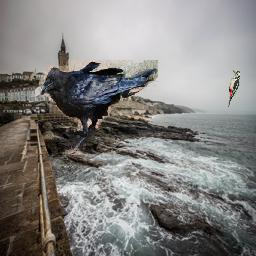Crow: (40, 61, 159, 156)
Woodpecker: (228, 71, 240, 108)
